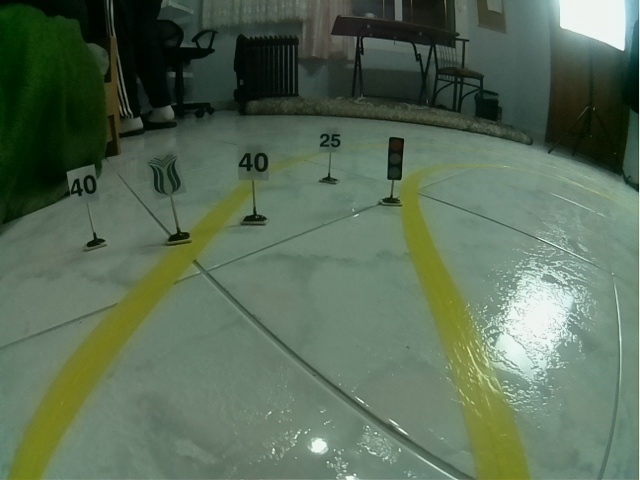Red Traffic Light: (386, 136, 405, 182)
Speed Limit 25: (318, 127, 343, 154)
Speed Limit 40: (67, 164, 100, 205), (236, 144, 270, 181)
Subu: (144, 150, 187, 201)
